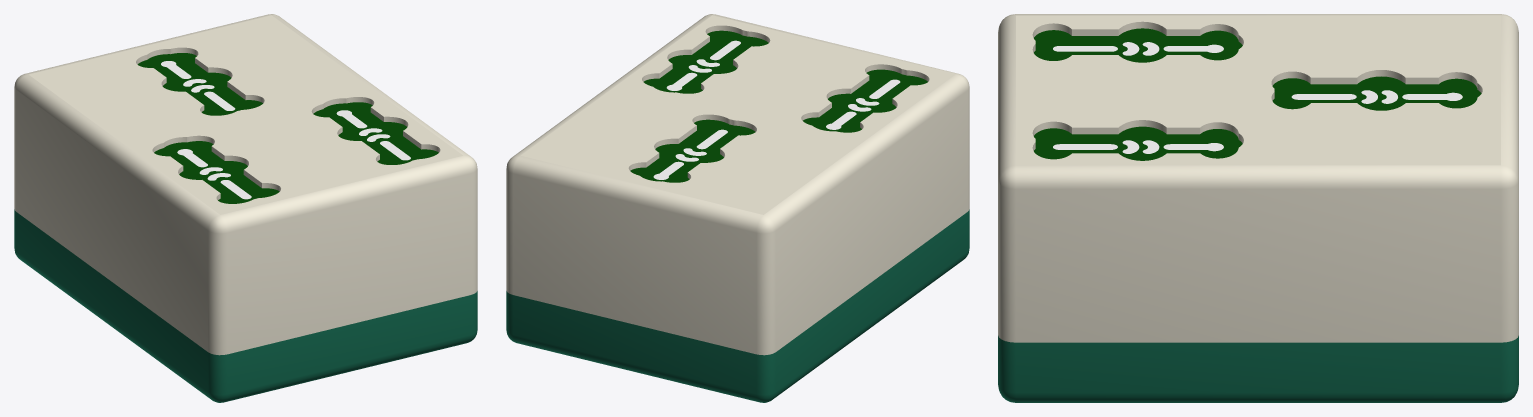
Rendered from Sou3.glb.
3 renders of one model, left to right at view 1: azimuth 30°, elevation 25°; view 2: azimuth 150°, elevation 25°; view 3: azimuth 270°, elevation 25°, orthographic. The views are drawn at different scales.
Parts seen in each view (by area): view 1: Sou3_body, Sou3_inset; view 2: Sou3_body, Sou3_inset; view 3: Sou3_body, Sou3_inset.
Boxes of the visible parts, x1=… form: Sou3_body: x1=14, y1=14, x2=477, y2=402; Sou3_inset: x1=137, y1=53, x2=438, y2=203; Sou3_body: x1=506, y1=14, x2=969, y2=402; Sou3_inset: x1=630, y1=30, x2=927, y2=182; Sou3_body: x1=998, y1=14, x2=1518, y2=402; Sou3_inset: x1=1034, y1=28, x2=1481, y2=160.
Size of the model in its own units: 0.024 by 0.016 by 0.032.
